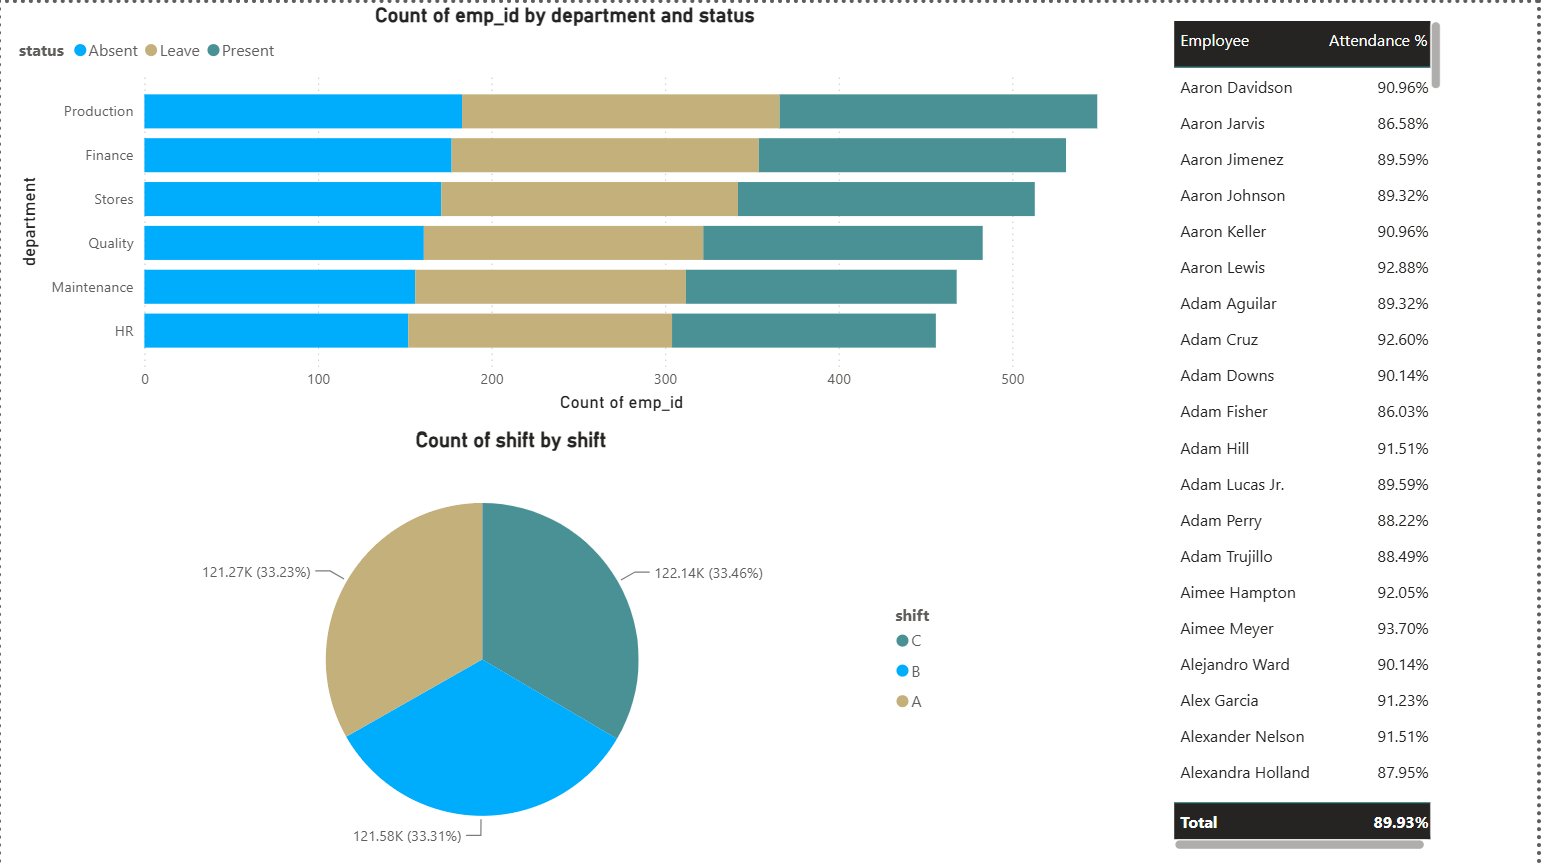

The page's visual inventory and layout, read from the dashboard file:
{"tool":"powerbi","page":{"name":"Workforce Analytics","canvas":[1280,720],"ordinal":1},"visuals":[{"type":"barChart","fields":{"Category":["public employees.department"],"Series":["public attendance.status"],"Y":["CountNonNull(public employees.emp_id)"]},"box":[10,0,920,345],"z":0},{"type":"pieChart","fields":{"Y":["CountNonNull(public attendance.shift)"],"Category":["public attendance.shift"]},"box":[51.7,353.3,746.7,366.7],"z":1000},{"type":"tableEx","fields":{"Values":["public employees.emp_name","public attendance.Attendance %"]},"box":[971.7,10,233.3,700],"z":2000}]}

Visuals, with their boxes in screenshot pixels (x1, y1, x2, y2), scaled from the page's 1280x720 canvas onto the 1552x864 screenshot:
barChart - public employees.department x public attendance.status: 12:0:1128:414
pieChart - CountNonNull(public attendance.shift) x public attendance.shift: 63:424:968:863
tableEx - public employees.emp_name x public attendance.Attendance %: 1178:12:1461:852
